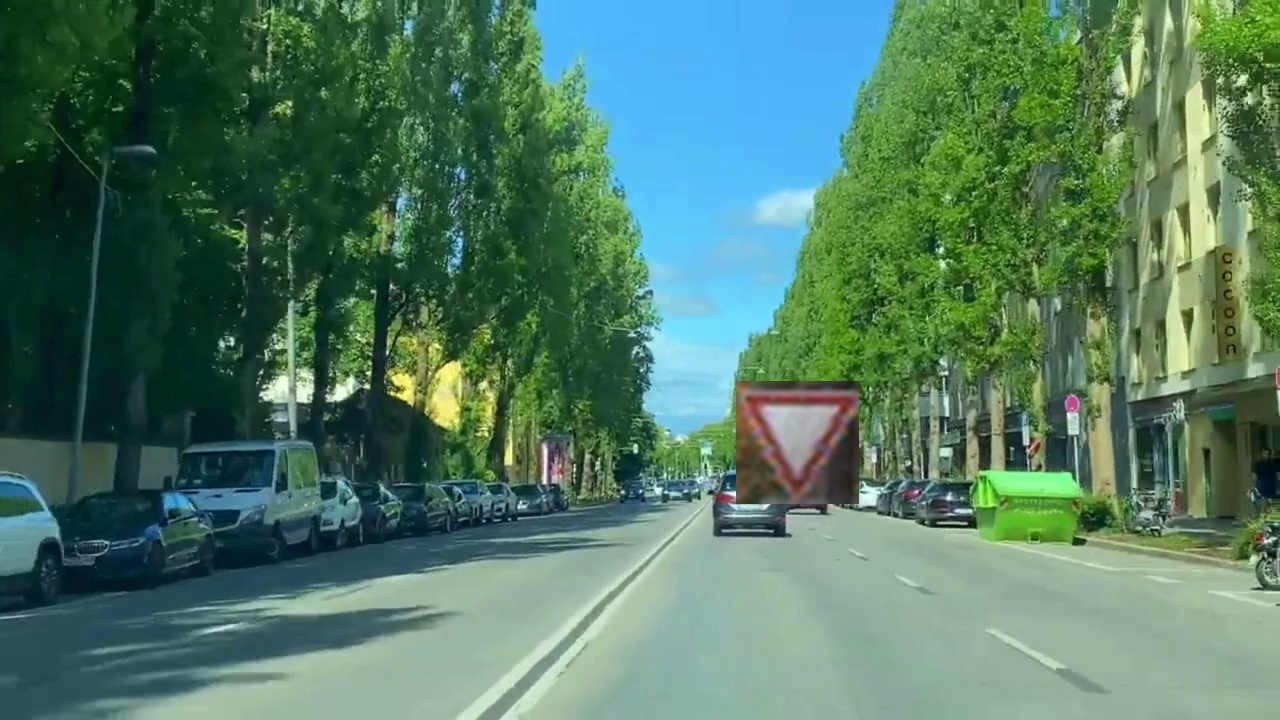Yield: (736, 381, 859, 504)
